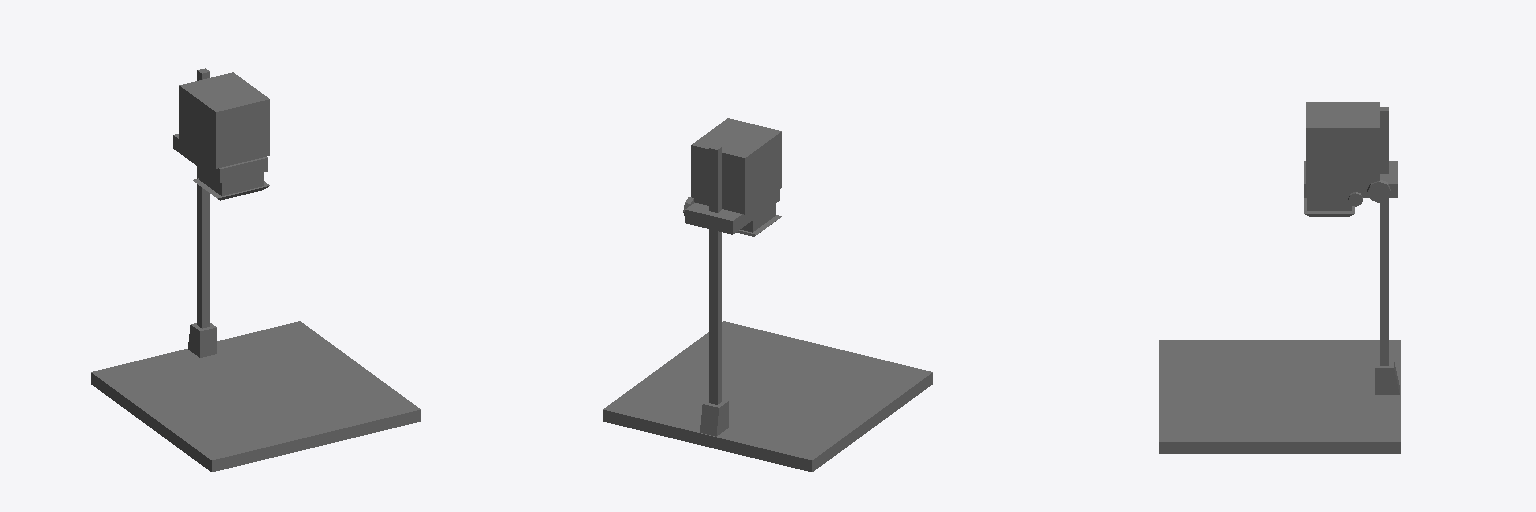
File: Photo_Enlarger.obj
The picture shows the model from 3 angles: view 1: azimuth 30°, elevation 25°; view 2: azimuth 150°, elevation 25°; view 3: azimuth 270°, elevation 25°; orthographic projection.
Visible parts, largest first — view 1: pCube17 Photo_Enlarger, Photo_Enlarger pCube16; view 2: pCube17 Photo_Enlarger, Photo_Enlarger pCube16; view 3: pCube17 Photo_Enlarger, Photo_Enlarger pCube16.
Part boxes in pixels (left/top/right/bottom): pCube17 Photo_Enlarger: left=91, top=68, right=420, bottom=471; Photo_Enlarger pCube16: left=173, top=72, right=269, bottom=200; pCube17 Photo_Enlarger: left=603, top=145, right=932, bottom=471; Photo_Enlarger pCube16: left=683, top=118, right=781, bottom=236; pCube17 Photo_Enlarger: left=1159, top=107, right=1400, bottom=453; Photo_Enlarger pCube16: left=1304, top=102, right=1397, bottom=216.
Size of the model in its own units: 50 by 66.98 by 50.